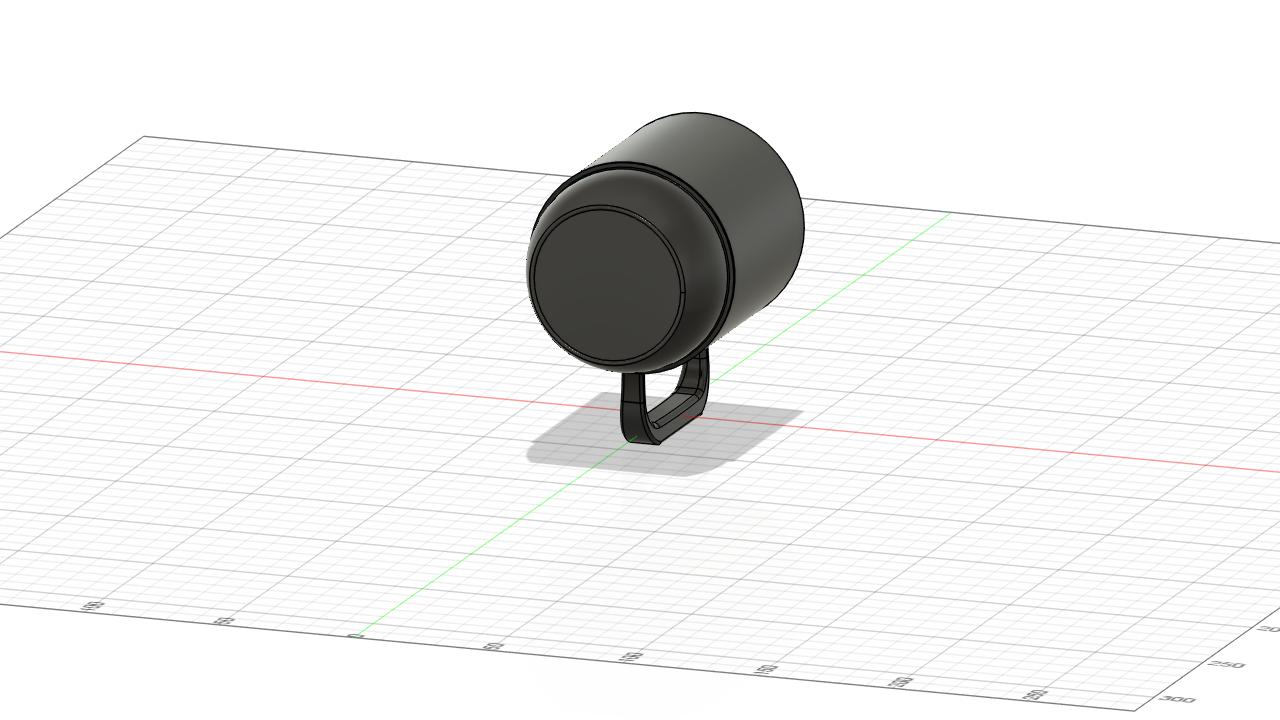mug-real100-3d100: (527, 113, 802, 444)
